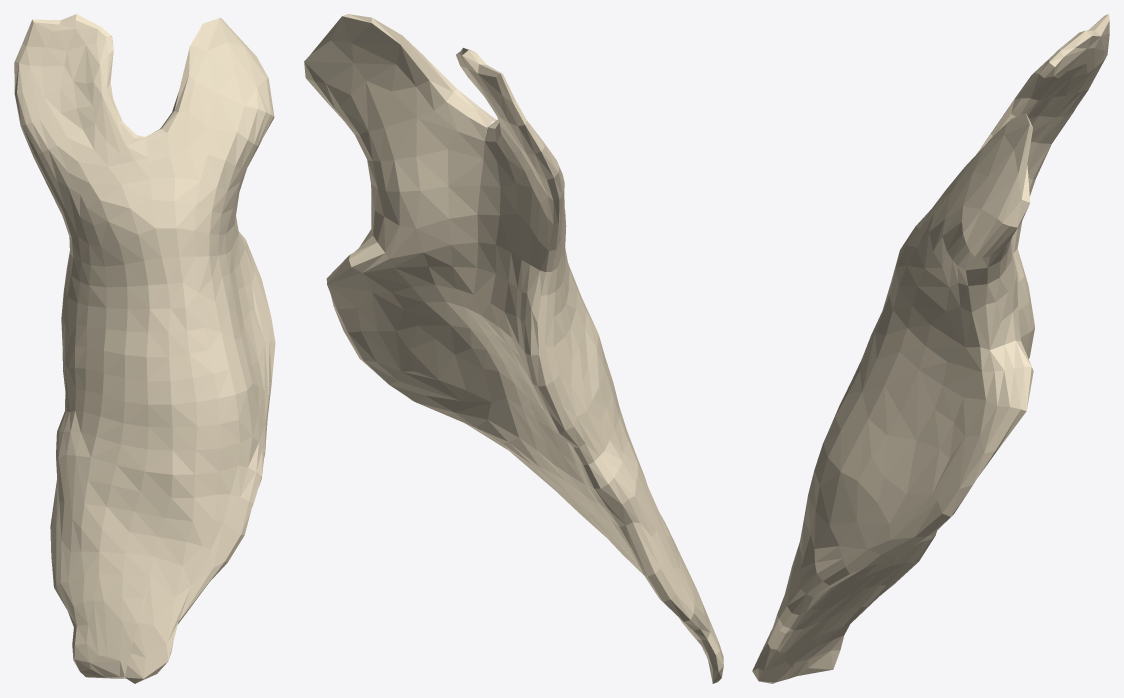
The model's file is VH_M_Thymus_0.6.glb.
The picture shows the model from 3 angles, left to right: view 1: azimuth 30°, elevation 25°; view 2: azimuth 150°, elevation 25°; view 3: azimuth 270°, elevation 25°; orthographic projection. The views are drawn at different scales.
Visible parts, largest first — view 1: VH_M_thymus_lobe_L, VH_M_thymus_lobe_R; view 2: VH_M_thymus_lobe_R, VH_M_thymus_lobe_L; view 3: VH_M_thymus_lobe_R, VH_M_thymus_lobe_L.
Part boxes in pixels (x1,y1,x2,y2): VH_M_thymus_lobe_L: (14,14,172,678); VH_M_thymus_lobe_R: (124,18,275,683); VH_M_thymus_lobe_R: (304,14,643,574); VH_M_thymus_lobe_L: (456,47,723,683); VH_M_thymus_lobe_R: (752,113,1033,683); VH_M_thymus_lobe_L: (788,14,1109,678).
Bounding box in the file's own units: 0.037 × 0.0757 × 0.0352.
